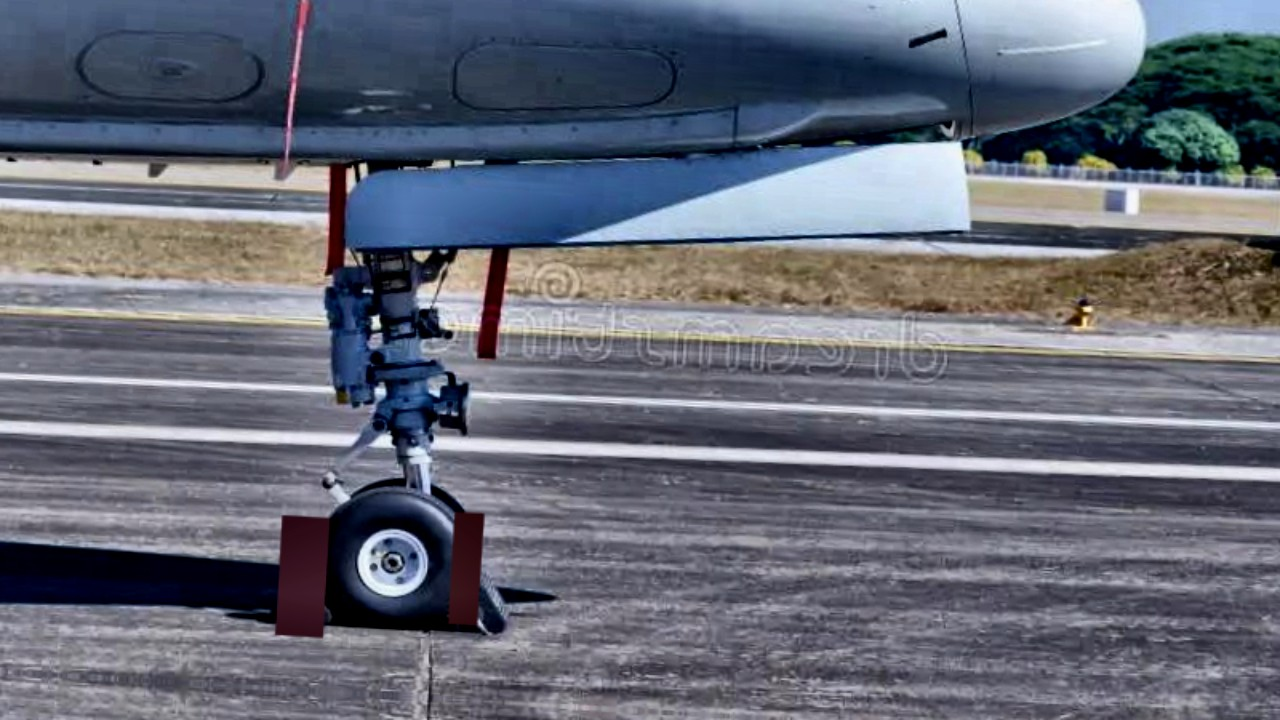chock: (446, 568, 519, 639), (268, 573, 338, 628)
wheel: (309, 470, 488, 637), (344, 472, 479, 541)
